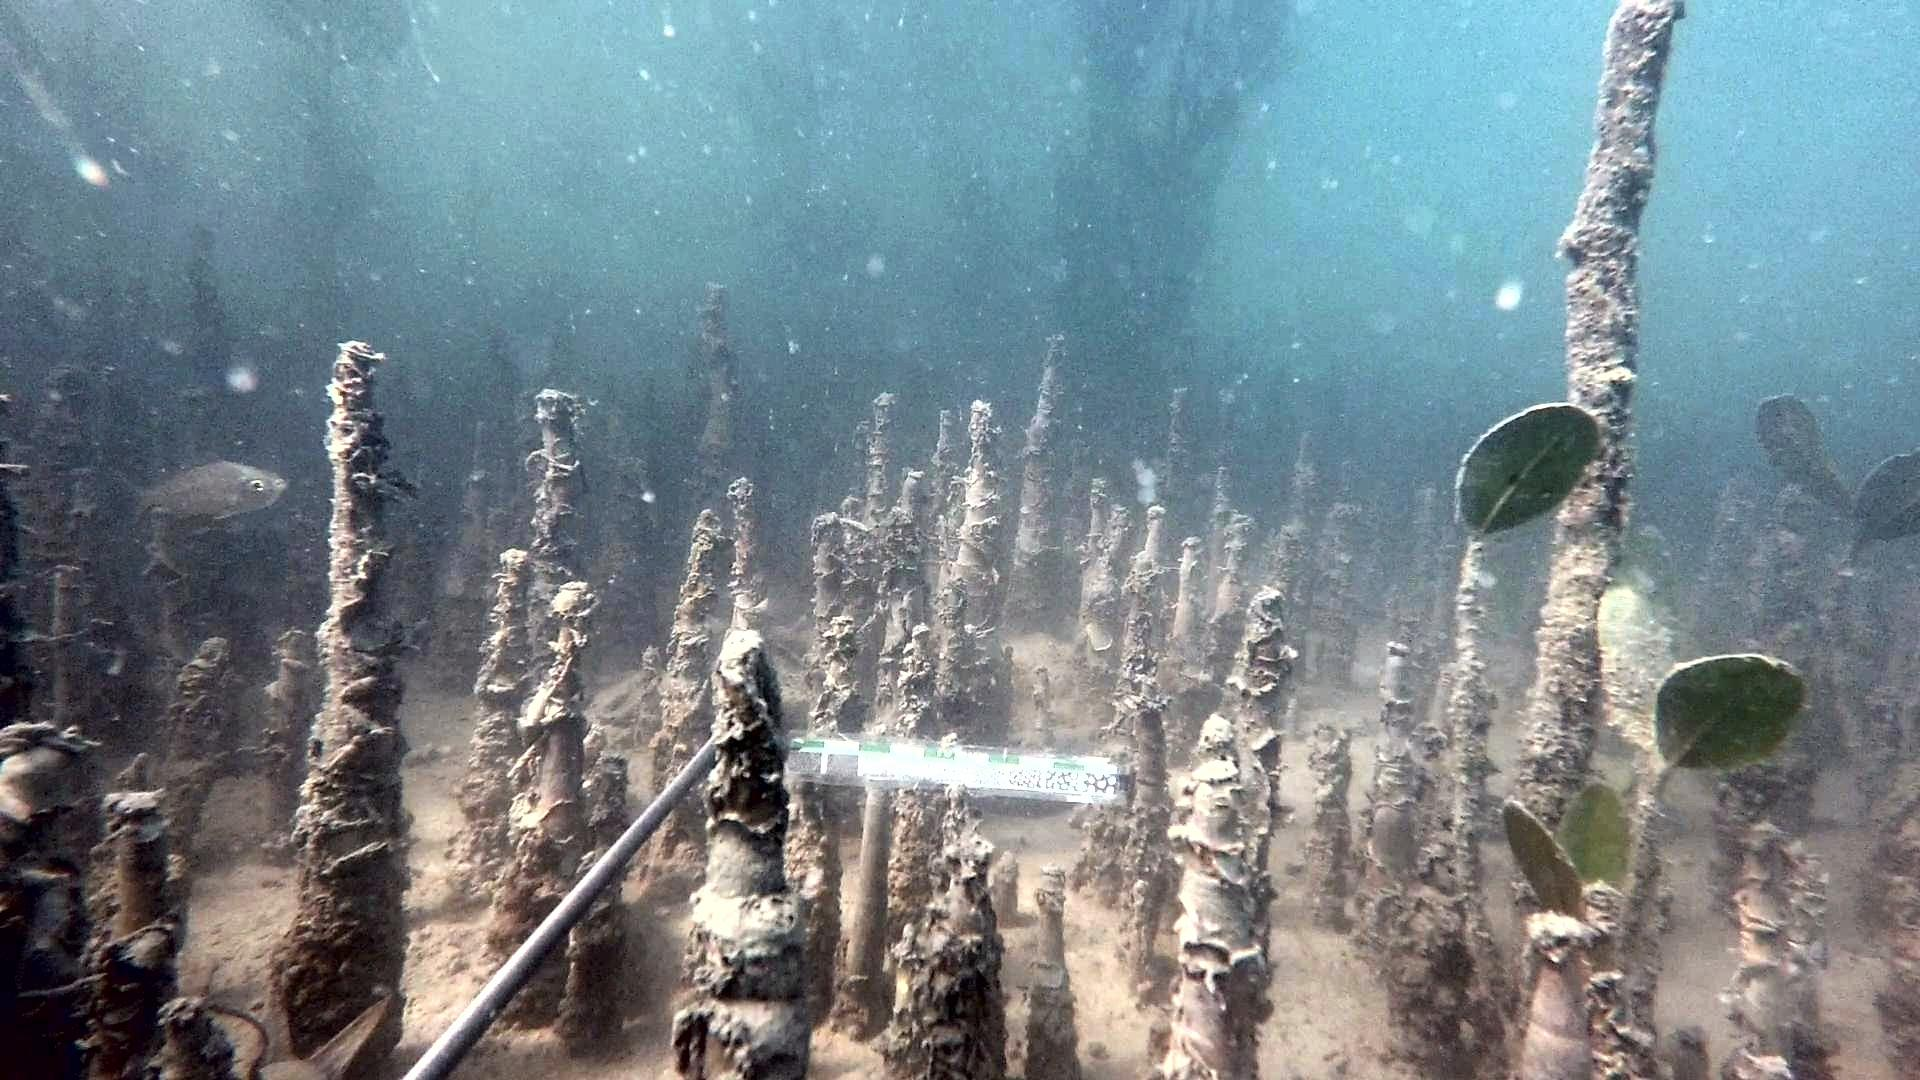gerres: (111, 451, 287, 533)
